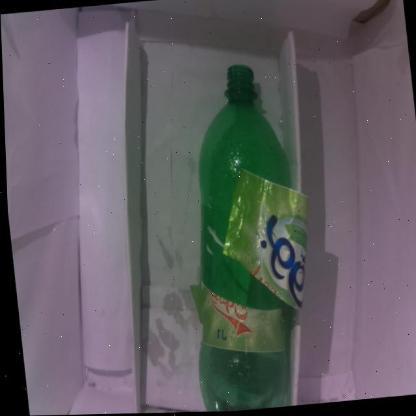Plastic Bottle: (201, 64, 309, 406)
